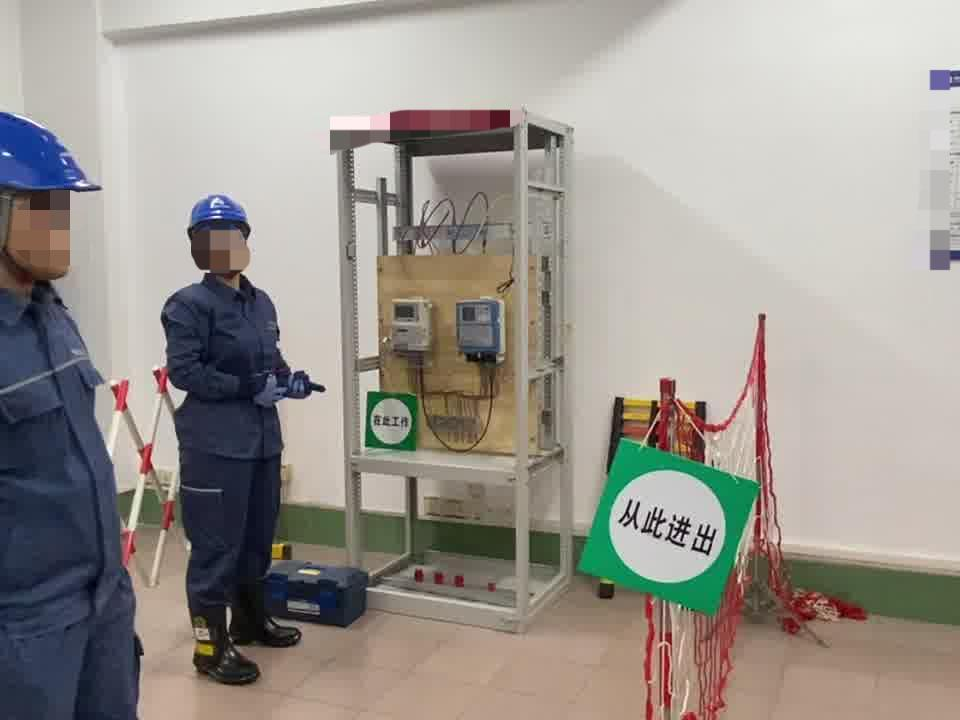halt: (3, 111, 102, 289), (188, 196, 256, 282)
